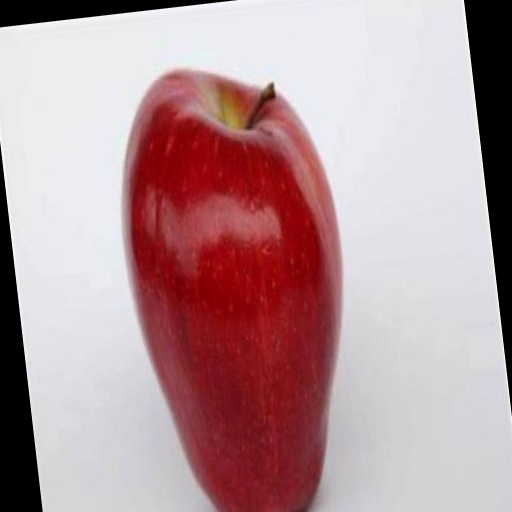fruit: (123, 71, 342, 512)
